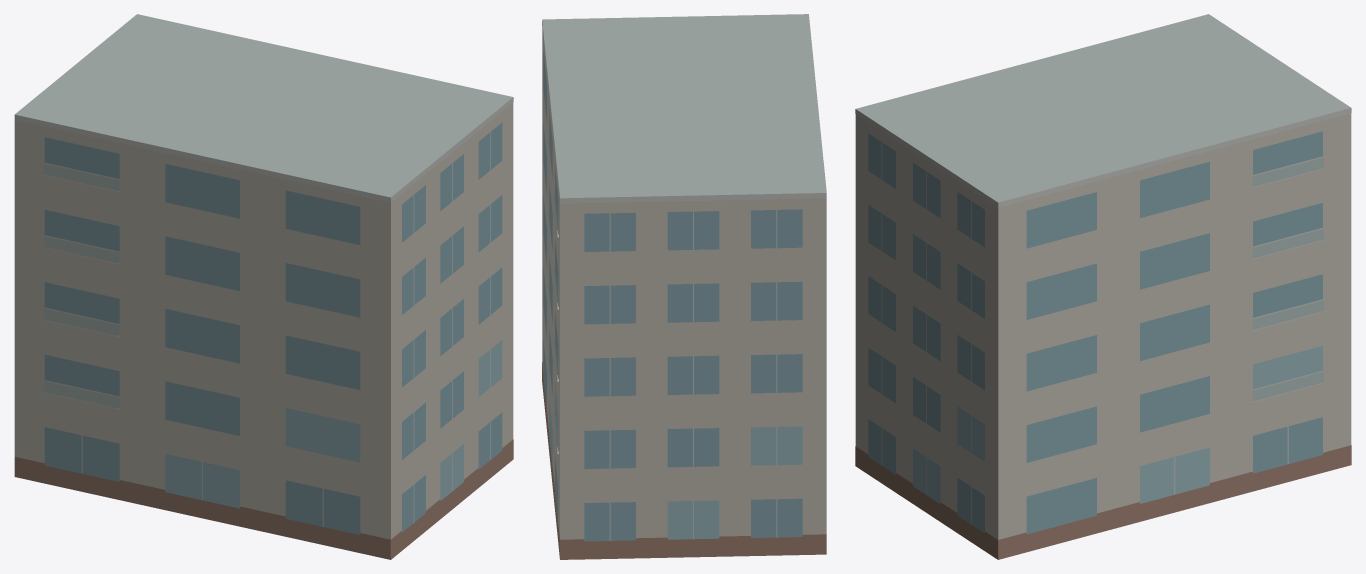
Rendered from survey-upis-32695279.glb.
The picture shows the model from 3 angles, left to right: view 1: azimuth 30°, elevation 25°; view 2: azimuth 150°, elevation 25°; view 3: azimuth 270°, elevation 25°; orthographic projection.
Parts seen in each view (by area): view 1: survey-upis-32695279.tmp; view 2: survey-upis-32695279.tmp; view 3: survey-upis-32695279.tmp.
Boxes of the visible parts, box(x1,y1,x2,y2) form: survey-upis-32695279.tmp: box(14, 14, 513, 559); survey-upis-32695279.tmp: box(542, 14, 826, 559); survey-upis-32695279.tmp: box(855, 14, 1351, 559).
Size of the model in its own units: 19.03 by 16.8 by 21.14.
